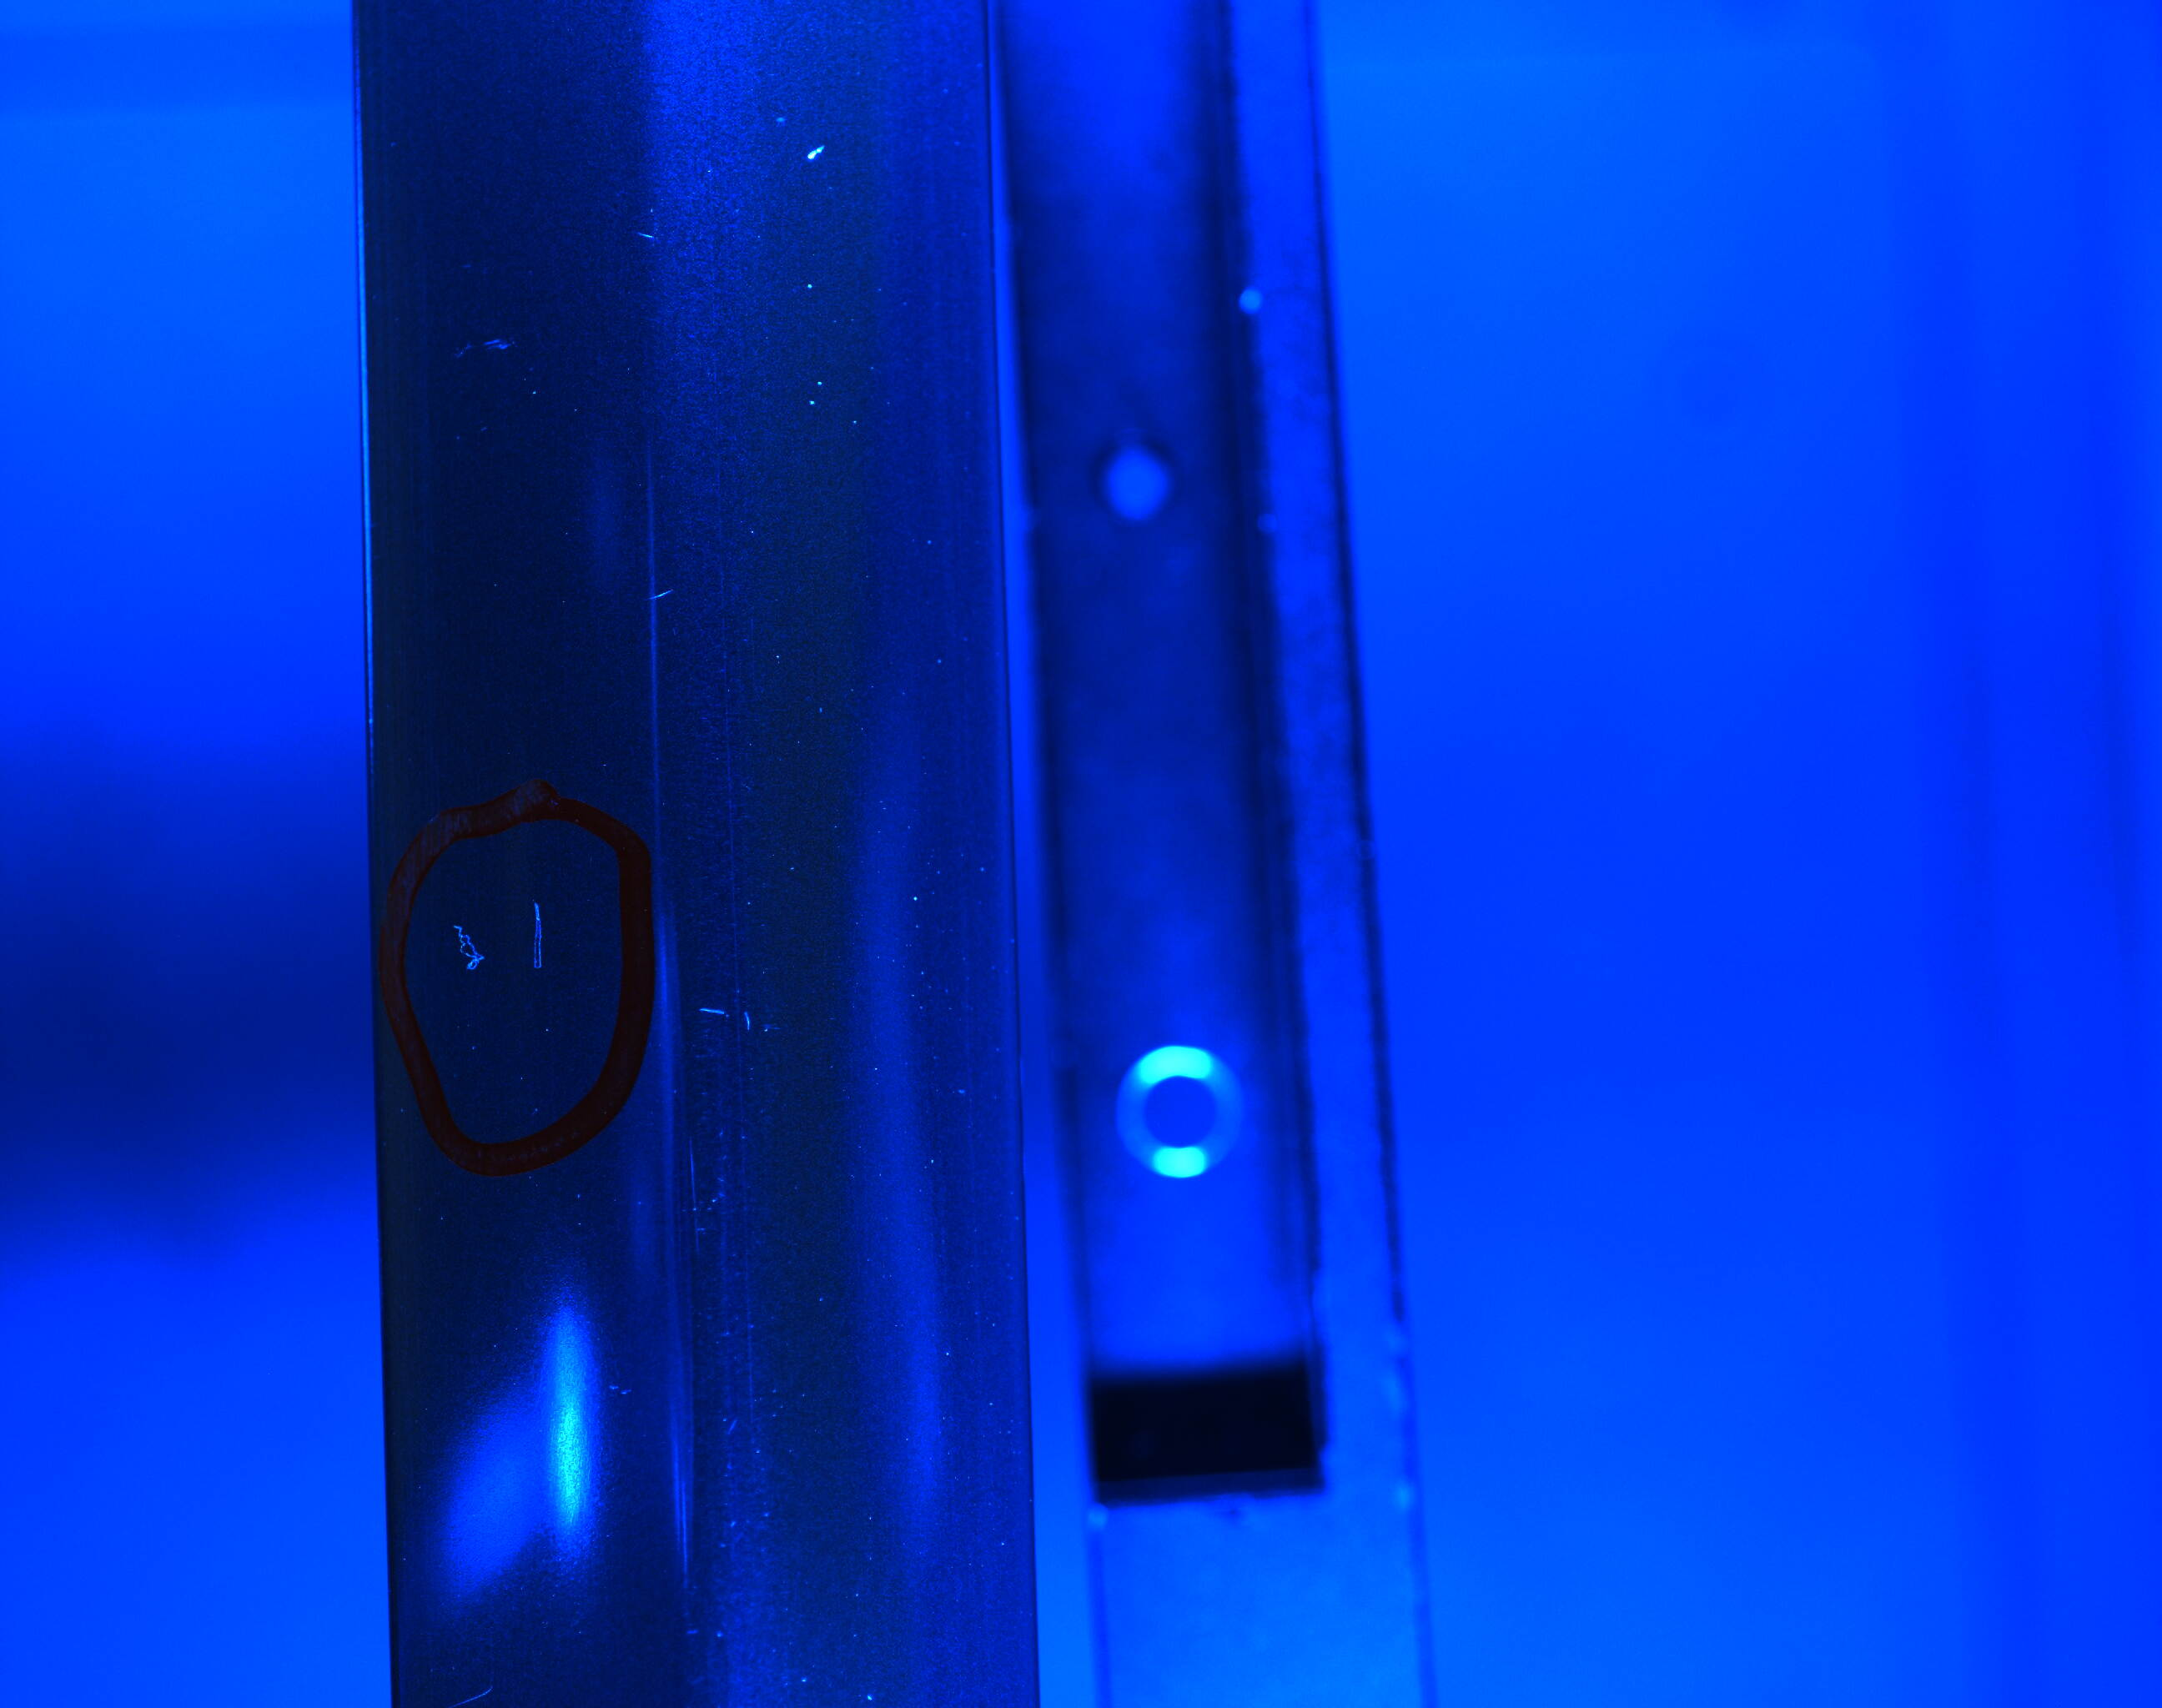NG: (439, 892, 583, 1002), (686, 981, 772, 1055), (467, 304, 523, 383), (790, 125, 856, 183)
